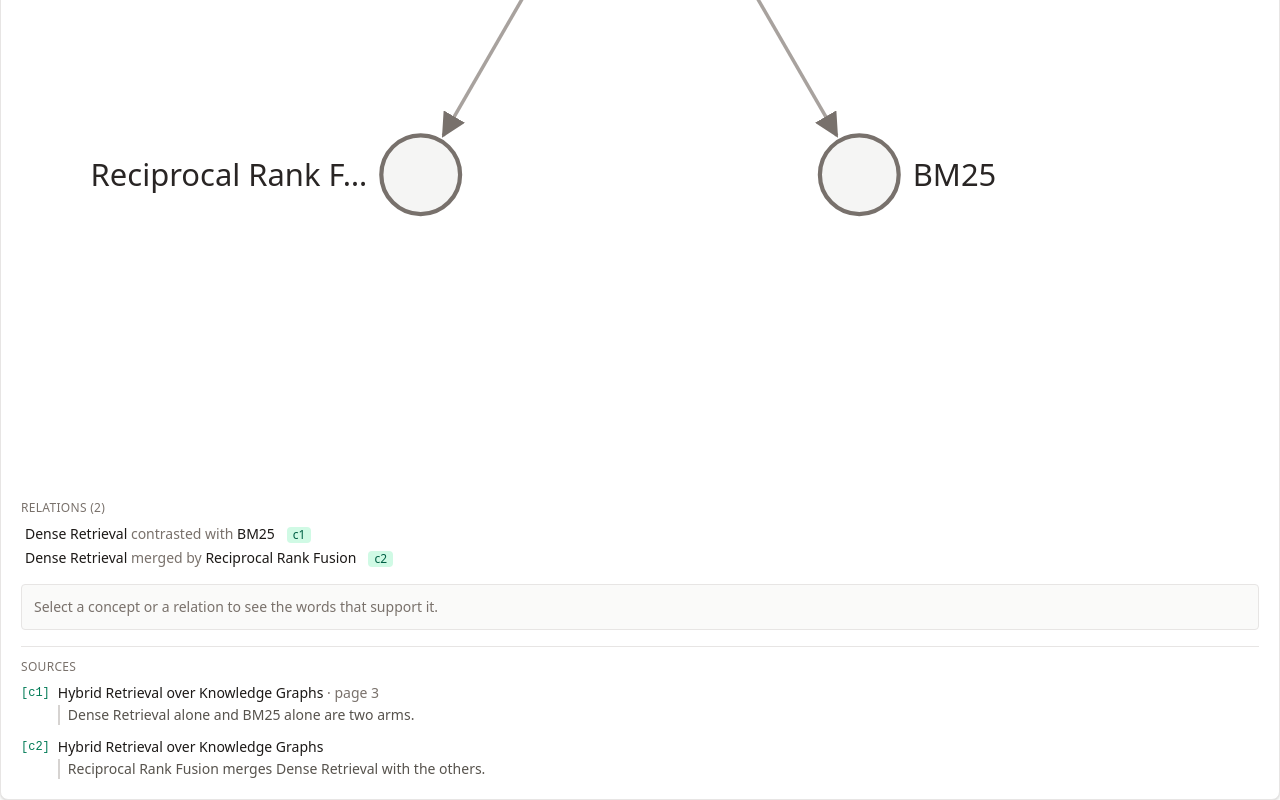
Test case: GraphView: ready › selecting a relation from the list shows its quote and marks it pressed
(page scrolled)
Click the button "Dense Retrieval merged by Reciprocal Rank Fusion": (191, 558) [21, 548, 360, 568]
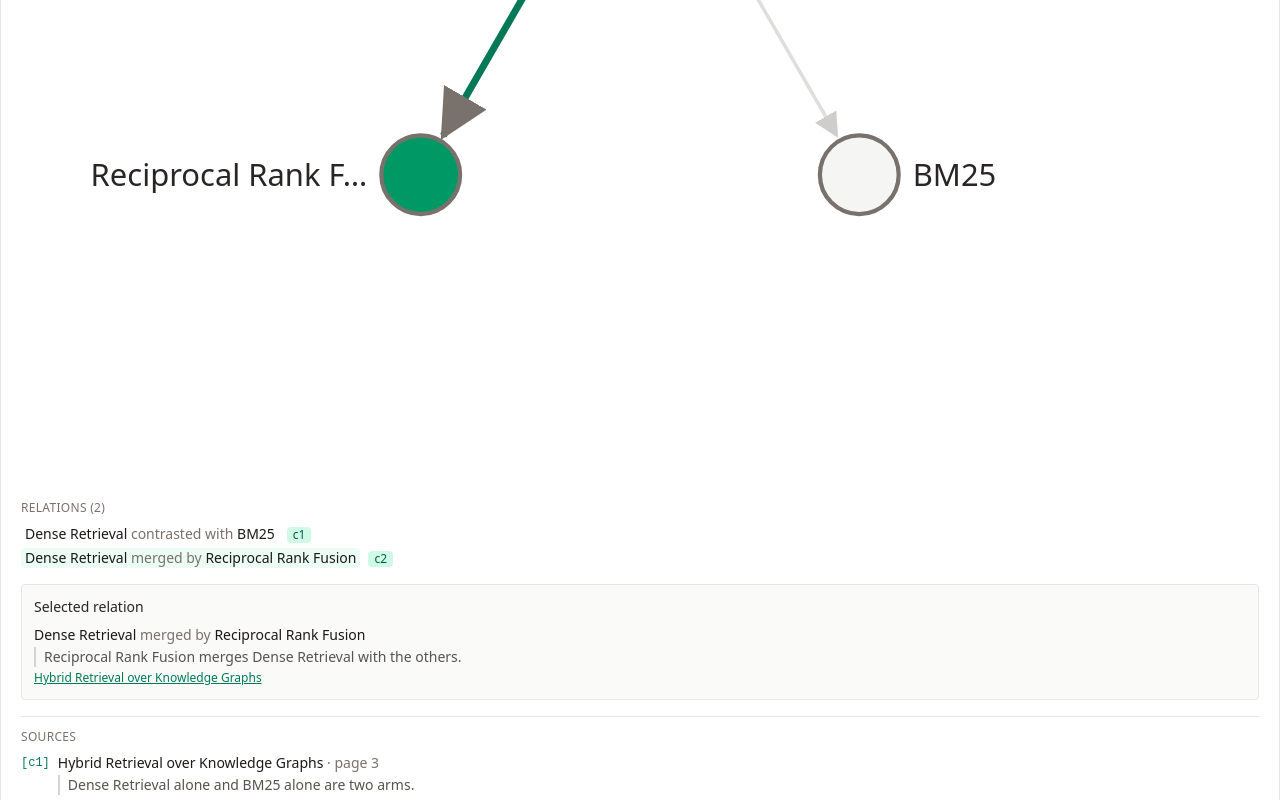
Expected: the element named "Details" does not show "Dense Retrieval alone and BM25", [21, 584, 1259, 700]
Now the heading "Selected relation" is shown, box [34, 597, 144, 616]
Now the element named "Details" shows "Reciprocal Rank Fusion merges Dense Retrieval", box [44, 647, 462, 666]
